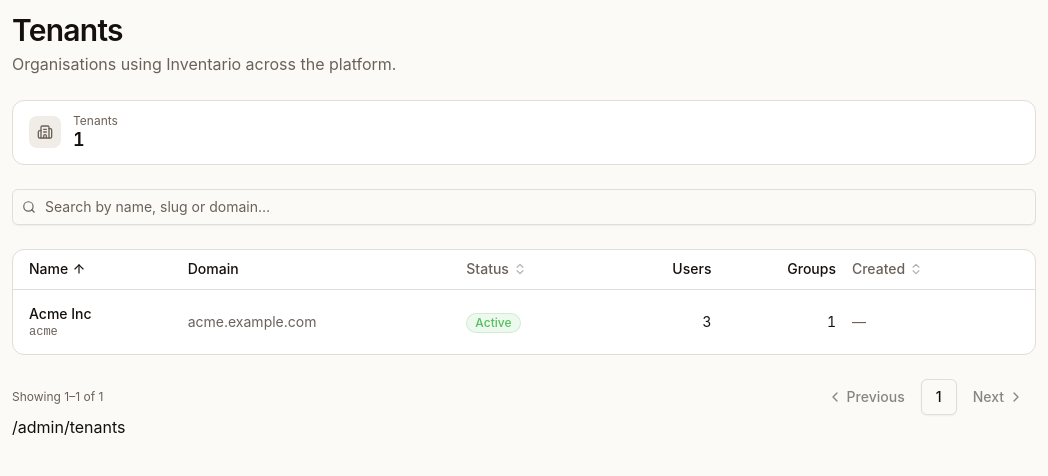
Test: AdminTenantsPage › clears the search and refetches the unfiltered list
The image size is (1048, 476).
Expected: the text "Acme Inc" is shown, [29,305,92,322]
Type "globex" into the field with test id "admin-tenants-search" at point(524, 206), box [12,188,1036,224]
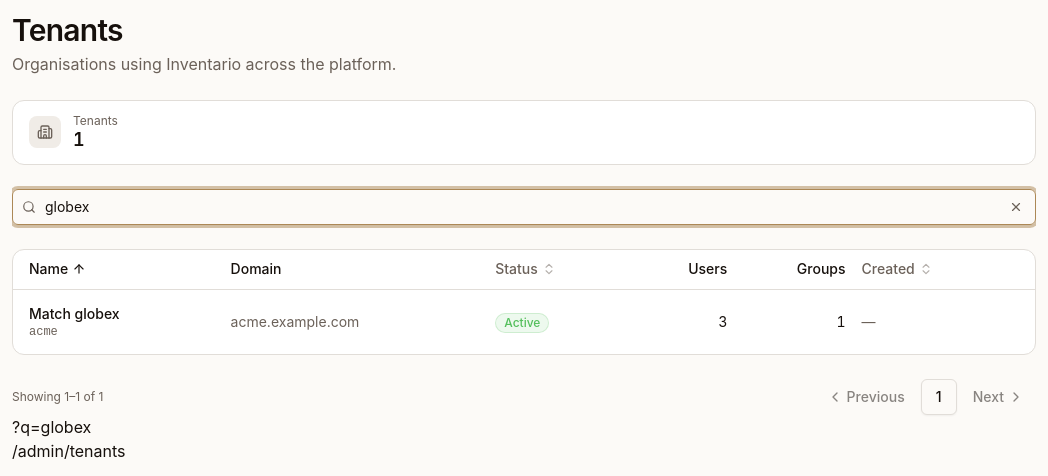
Now the text "Match globex" is shown, box [29,305,120,322]
Click the button named "Clear search" at point(1016, 206), box [1002,192,1030,220]
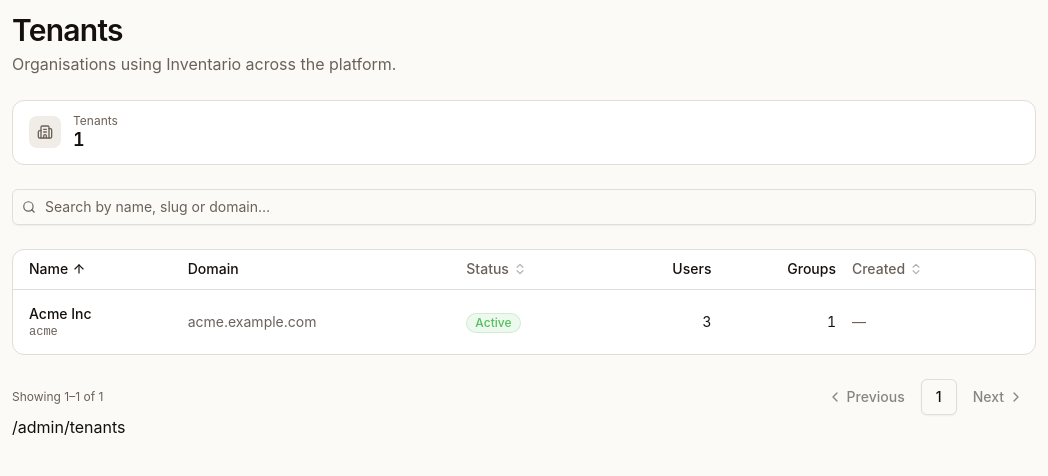
Now the text "Acme Inc" is shown, box [29,305,92,322]
